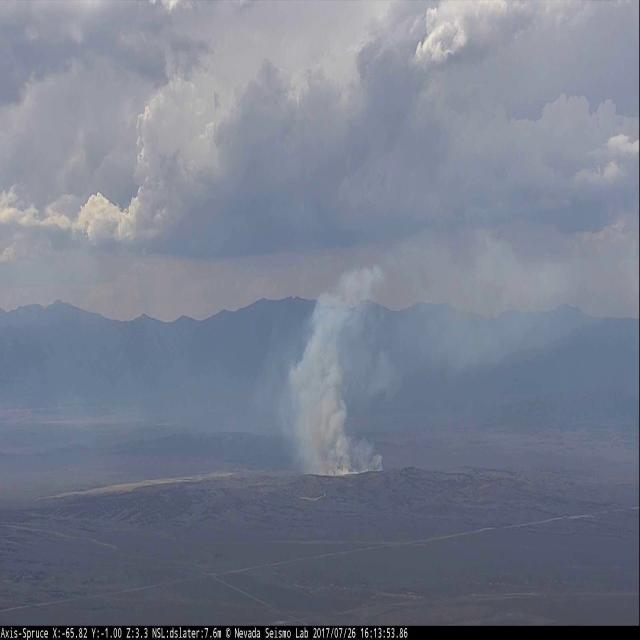smoke: (254, 248, 405, 505)
